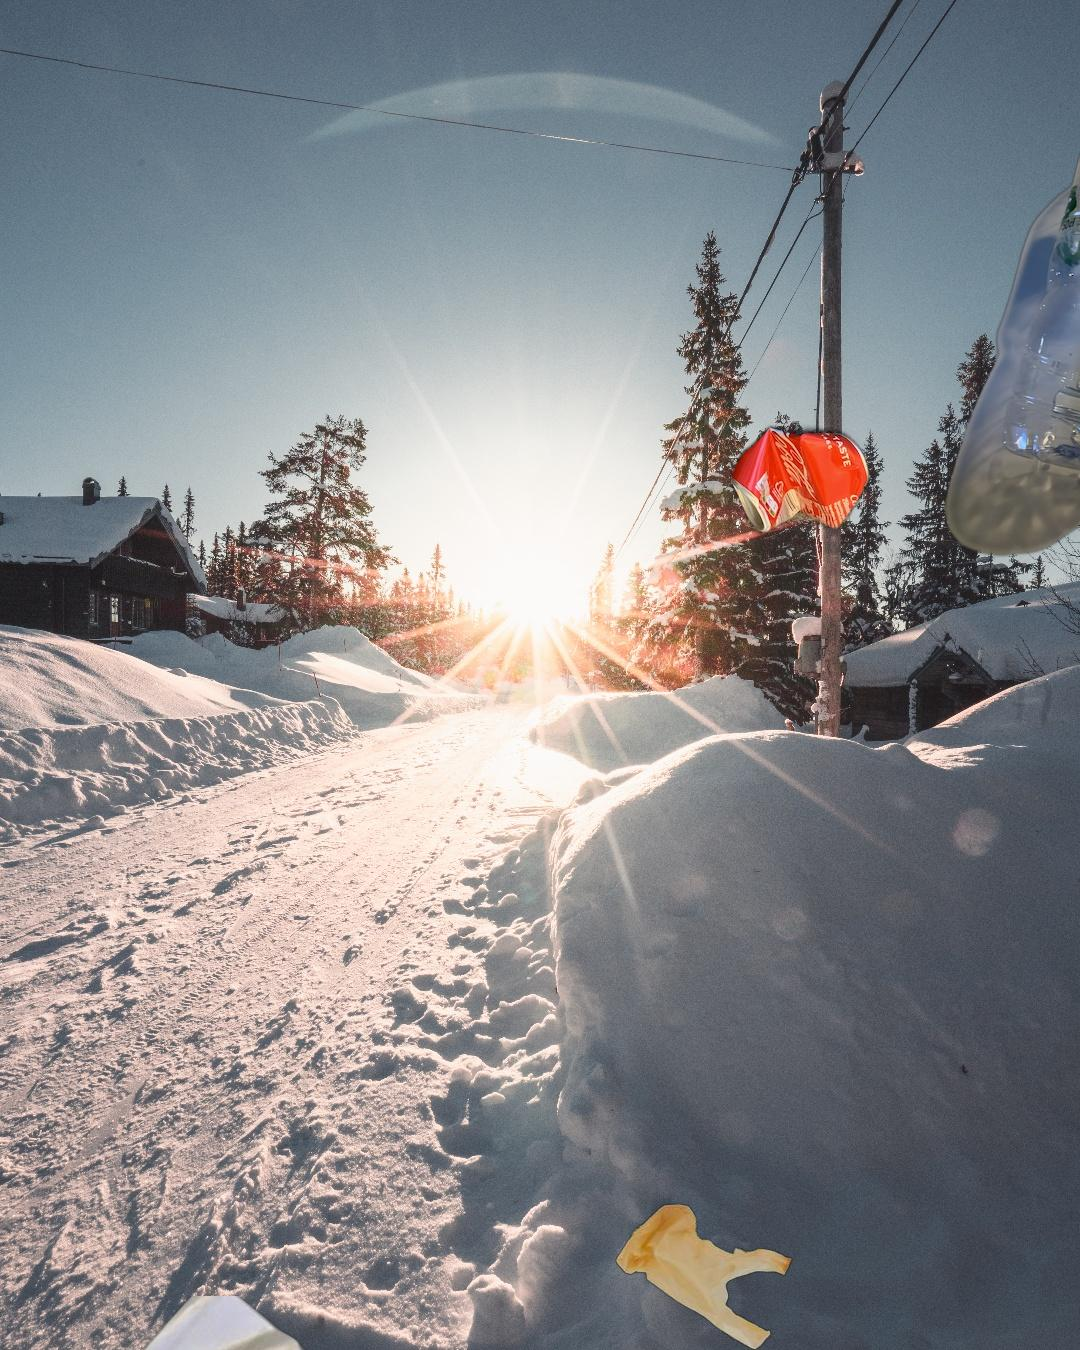metal-cans: (727, 421, 873, 541)
paper: (35, 1296, 496, 1350)
plastic-bag: (613, 1201, 795, 1350)
plastic-bottles: (941, 76, 1080, 560)
